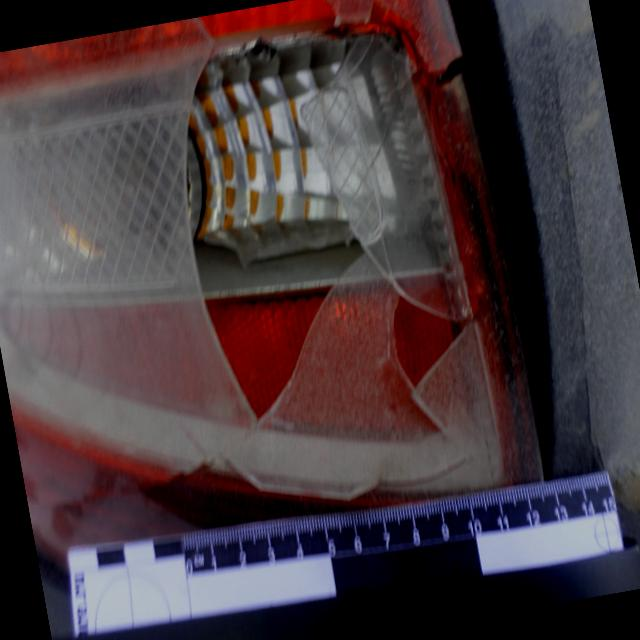Dechirure: (561, 369, 608, 469)
Rayure: (531, 64, 612, 353)
